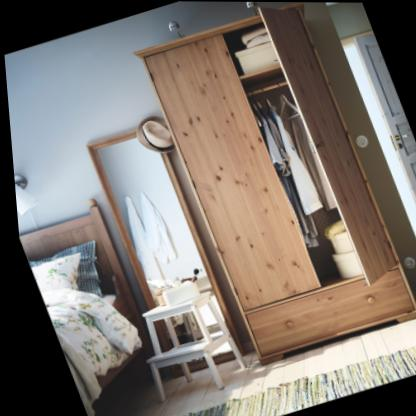Bed: (12, 195, 173, 416)
